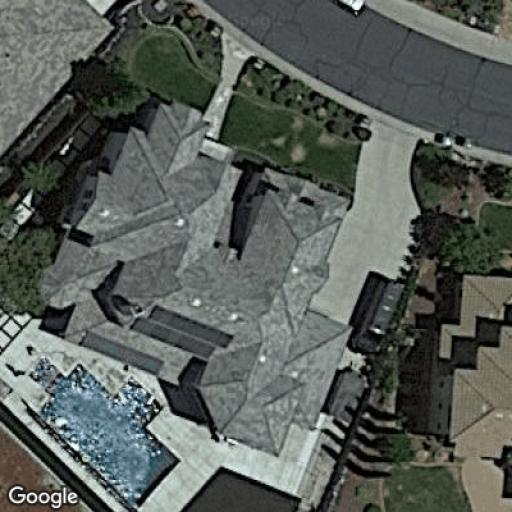solar-panel: (130, 304, 235, 358), (80, 328, 164, 372)
